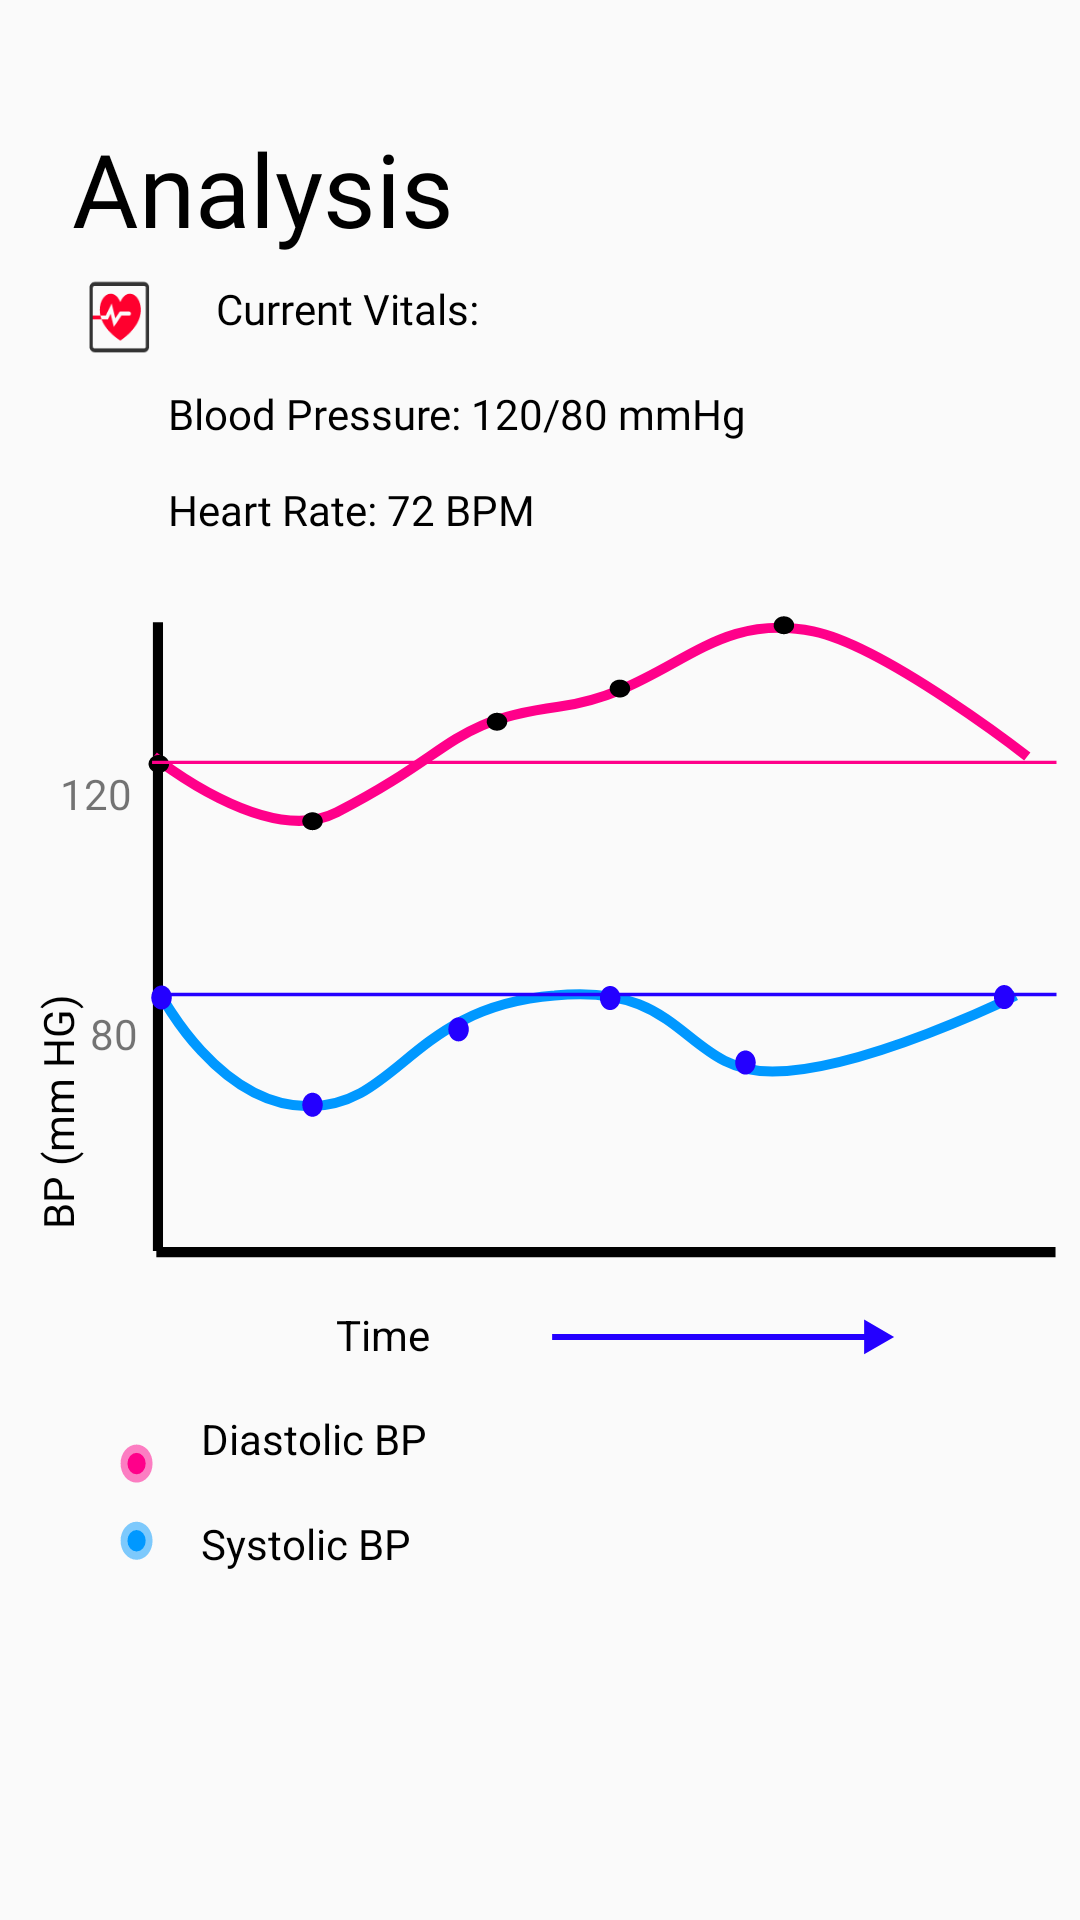

Icons on this 1080 x 1920 Android screen, each with its box as (x1, y1, x2, y2):
critical care: (89, 281, 149, 353)
